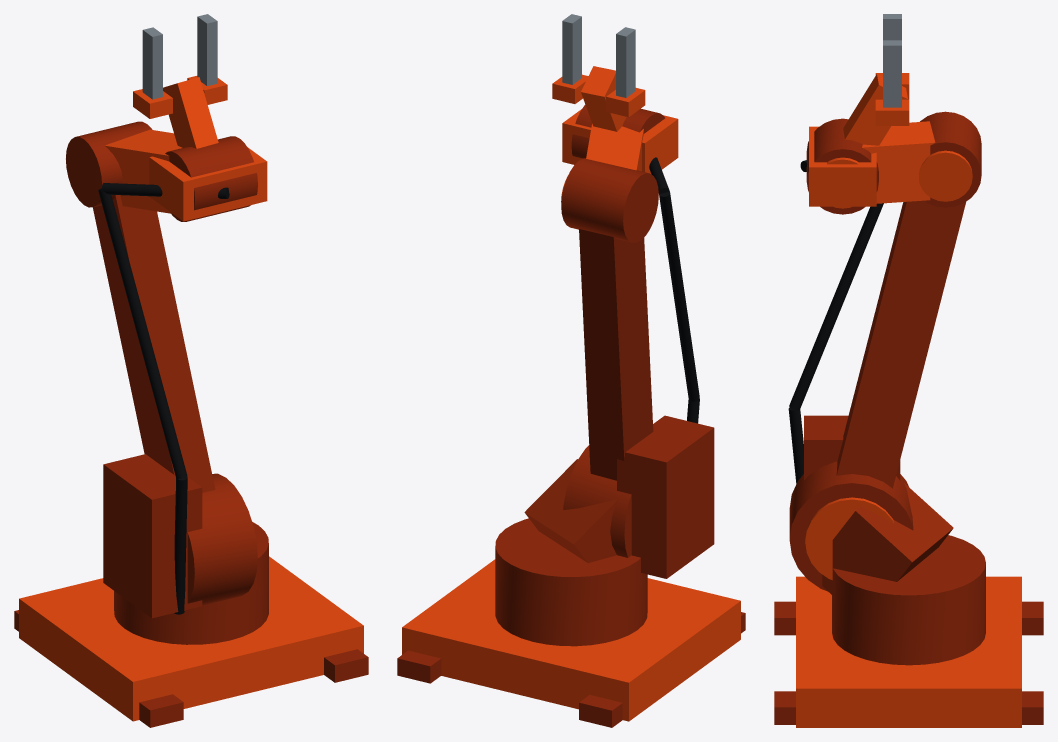
Rendered from back_ring_travelling_robot.dae.
3 views of the same model, side by side, from view 1: azimuth 30°, elevation 25°; view 2: azimuth 150°, elevation 25°; view 3: azimuth 270°, elevation 25° (orthographic).
Parts seen in each view (by area): view 1: back_ring_travelling_robot; view 2: back_ring_travelling_robot; view 3: back_ring_travelling_robot.
Boxes of the visible parts, x1,y1,x2,y2 form: back_ring_travelling_robot: (14, 14, 368, 727); back_ring_travelling_robot: (397, 14, 745, 727); back_ring_travelling_robot: (774, 14, 1043, 727).
Bounding box in the file's own units: 0.55 × 0.56 × 1.45.
